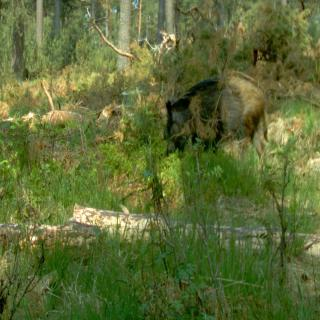Pig: (135, 45, 283, 178)
